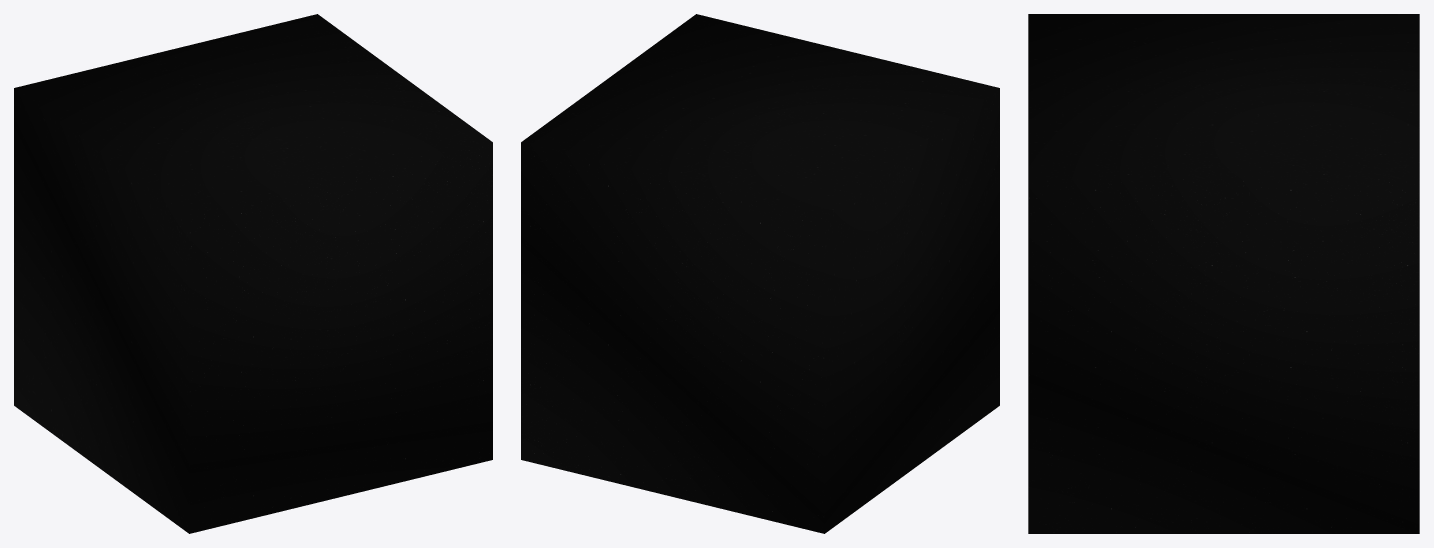
File: SpaceCube_Back.dae
3 views of the same model, side by side, from view 1: azimuth 30°, elevation 25°; view 2: azimuth 150°, elevation 25°; view 3: azimuth 270°, elevation 25° (orthographic). The views are drawn at different scales.
Parts seen in each view (by area): view 1: SpaceCubeObjectOUT; view 2: SpaceCubeObjectOUT; view 3: SpaceCubeObjectOUT.
Part boxes in pixels (x1,y1,x2,y2): SpaceCubeObjectOUT: [14, 14, 492, 533]; SpaceCubeObjectOUT: [521, 14, 999, 533]; SpaceCubeObjectOUT: [1028, 14, 1419, 533].
Size of the model in its own units: 27.2 by 27.2 by 27.2.
Materials: 5 (5 with a texture image).
